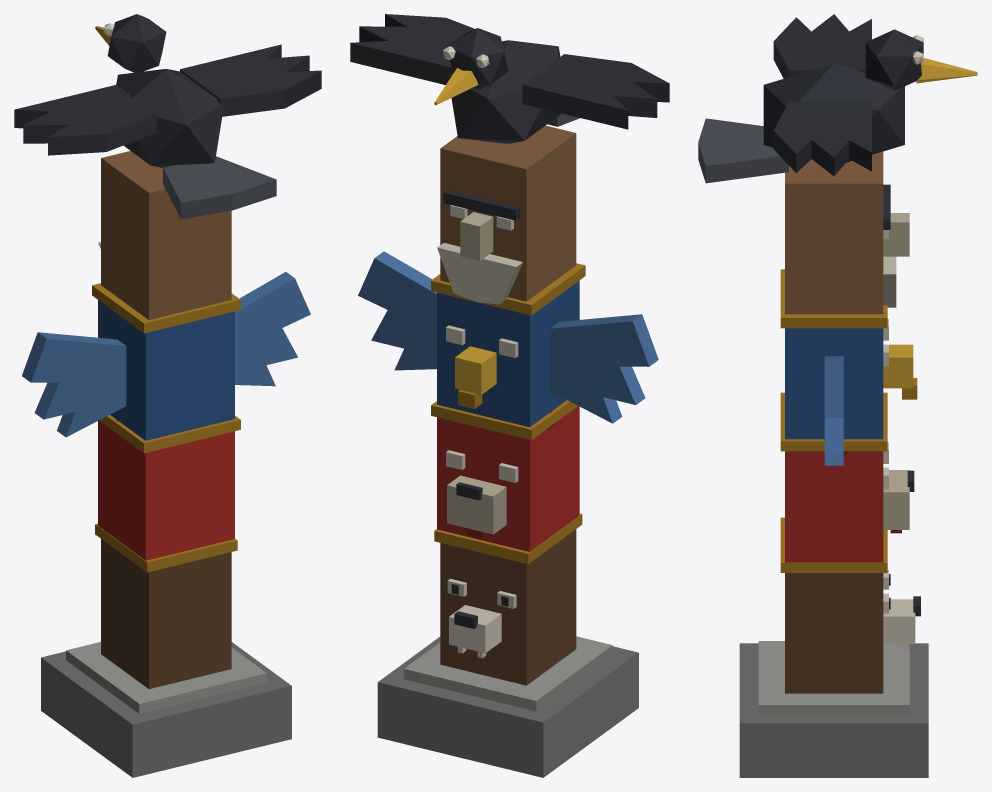
The model's file is Decor_VikingLonghouse_Totem.fbx.
The picture shows the model from 3 angles, left to right: view 1: azimuth 30°, elevation 25°; view 2: azimuth 150°, elevation 25°; view 3: azimuth 270°, elevation 25°; orthographic projection. The views are drawn at different scales.
Parts seen in each view (by area): view 1: Totem_Body; view 2: Totem_Body; view 3: Totem_Body.
Boxes of the visible parts, box(x1,y1,x2,y2) form: Totem_Body: box(14, 14, 321, 777); Totem_Body: box(350, 14, 669, 777); Totem_Body: box(698, 14, 977, 777).
Bounding box in the file's own units: 9 × 20.7 × 7.4.
